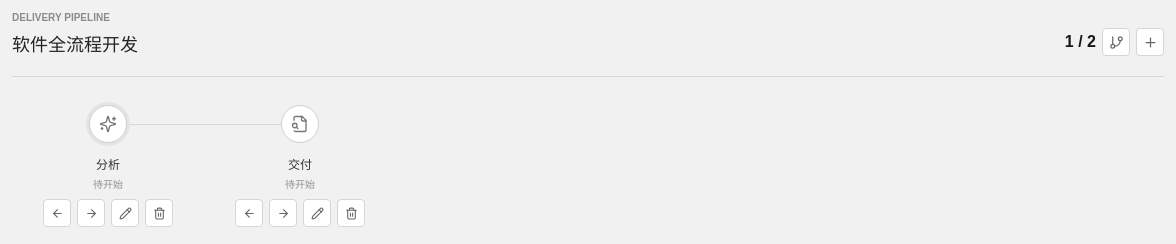
Test case: RequirementWorkflowNodeEditor transient command failures › publishes a safe Toast when reordering nodes fails
Click the button named "后移分析节点". click: (91, 213)
box: x1=77 y1=199 x2=105 y2=227
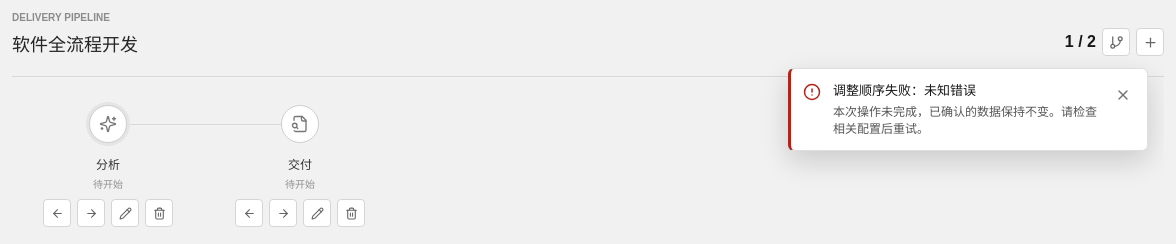
Expected: the message shows "调整顺序失败：未知错误", x1=833 y1=83 x2=976 y2=98
